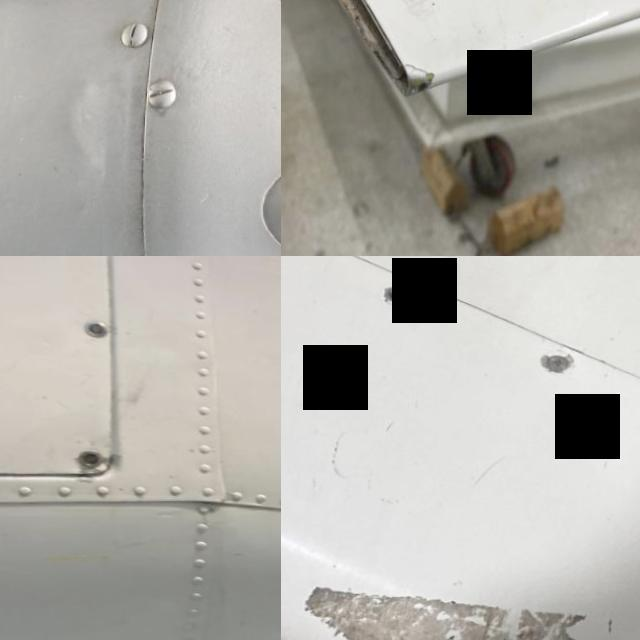Crack: (385, 41, 444, 100)
Dent: (50, 66, 136, 180)
Missing_Fastener: (382, 282, 414, 308)
